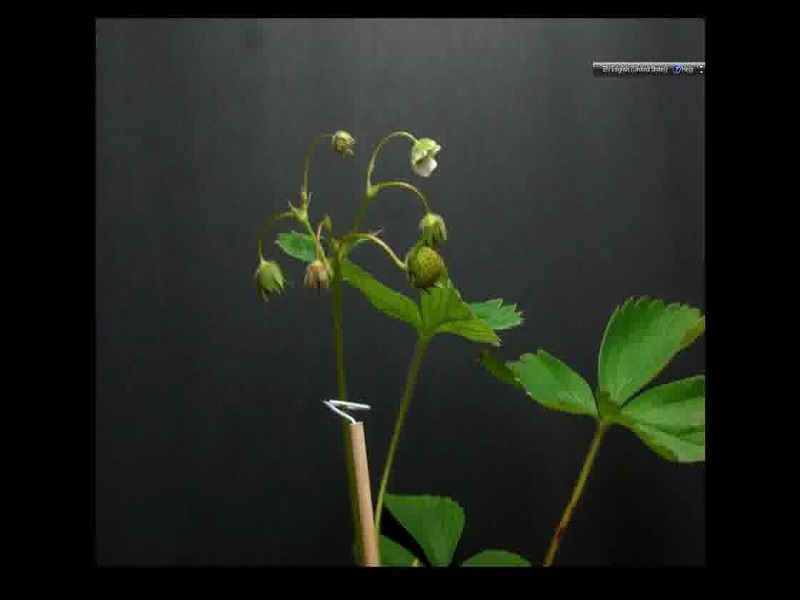storeberry-fruit-4: (330, 130, 357, 157)
storeberry-fruit-5: (407, 135, 443, 179)
storeberry-fruit-6: (251, 259, 289, 302), (417, 211, 450, 243), (302, 260, 332, 291)
storeberry-fruit-8: (403, 246, 446, 282)
storeberry-leaf-5: (596, 286, 705, 408), (499, 346, 599, 427), (379, 487, 468, 565), (420, 287, 502, 346)
